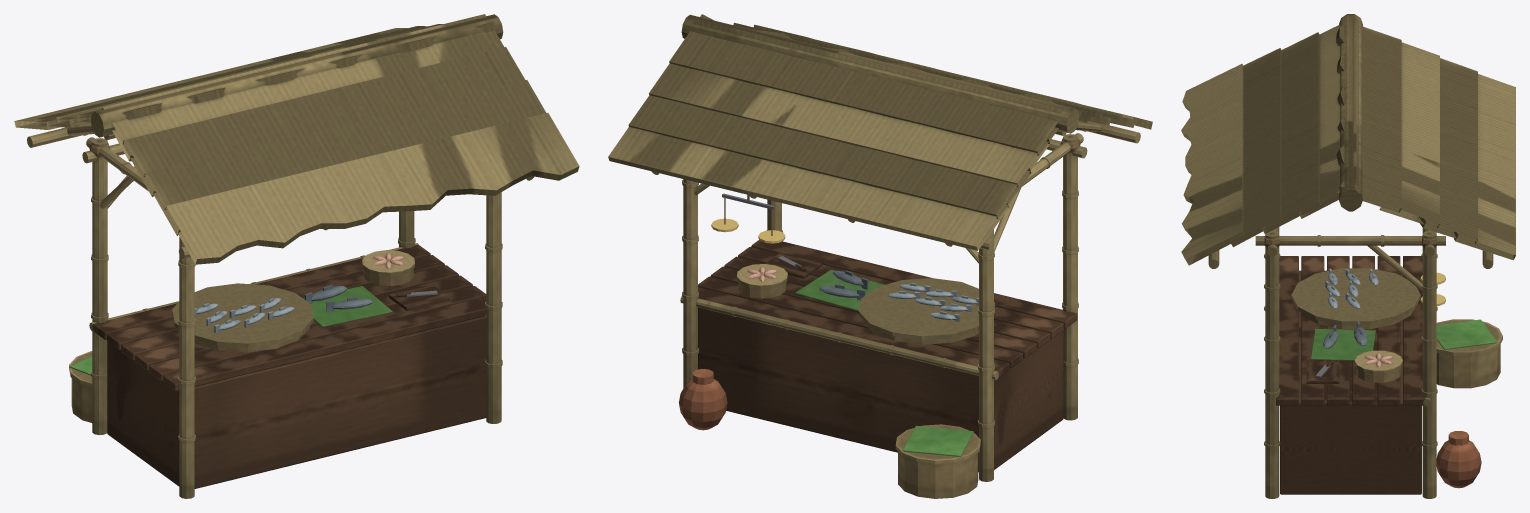
Rendered from market_stall_fish.glb.
3 renders of one model, left to right at view 1: azimuth 30°, elevation 25°; view 2: azimuth 150°, elevation 25°; view 3: azimuth 270°, elevation 25°, orthographic. The views are drawn at different scales.
Visible parts, largest first — view 1: Counter_Base.002, Ola_Back_0.002, Ola_Back_1.002, Ola_Back_2.002, Ola_Back_3.002, Counter_Plank_0.002, Fish_Muram_Tray_Rim, Ola_Ridge_Cap.002, Bamboo_Pillar_2.002, Bamboo_Pillar_0.002, Bamboo_Pillar_1.002, Counter_Plank_1.002 (+13 smaller); view 2: Counter_Base.002, Ola_Front_0.002, Ola_Front_3.002, Ola_Front_1.002, Ola_Front_2.002, Ola_Ridge_Cap.002, Fish_Muram_Tray_Rim, Bamboo_Pillar_0.002, Bamboo_Pillar_2.002, Counter_Plank_5.002, Counter_Plank_0.002, Ground_Fish_Kooda_Body (+16 smaller); view 3: Counter_Base.002, Ola_Back_0.002, Ola_Front_3.002, Ola_Back_2.002, Ola_Back_1.002, Ola_Front_2.002, Ola_Front_0.002, Ola_Front_1.002, Fish_Muram_Tray_Rim, Ola_Back_3.002, Bamboo_Pillar_1.002, Bamboo_Pillar_3.002 (+18 smaller).
Boxes of the visible parts, x1,y1,x2,y2 form: Counter_Base.002: [107, 316, 486, 488]; Ola_Back_0.002: [164, 113, 579, 264]; Ola_Back_1.002: [143, 80, 546, 235]; Ola_Back_2.002: [122, 47, 525, 196]; Ola_Back_3.002: [102, 14, 504, 161]; Counter_Plank_0.002: [163, 296, 486, 391]; Fish_Muram_Tray_Rim: [172, 283, 313, 347]; Ola_Ridge_Cap.002: [90, 14, 503, 137]; Bamboo_Pillar_2.002: [92, 138, 107, 435]; Bamboo_Pillar_0.002: [179, 237, 194, 498]; Bamboo_Pillar_1.002: [486, 192, 501, 423]; Counter_Plank_1.002: [149, 286, 486, 380]; Counter_Base.002: [698, 307, 1063, 472]; Ola_Front_0.002: [608, 127, 1008, 250]; Ola_Front_3.002: [669, 14, 1058, 155]; Ola_Front_1.002: [628, 95, 1031, 218]; Ola_Front_2.002: [649, 63, 1049, 187]; Ola_Ridge_Cap.002: [681, 14, 1079, 133]; Fish_Muram_Tray_Rim: [859, 278, 995, 339]; Bamboo_Pillar_0.002: [1063, 134, 1077, 420]; Bamboo_Pillar_2.002: [979, 229, 993, 481]; Counter_Plank_5.002: [698, 287, 1009, 377]; Counter_Plank_0.002: [751, 239, 1077, 328]; Ground_Fish_Kooda_Body: [898, 425, 978, 498]; Counter_Base.002: [1280, 270, 1421, 494]; Ola_Back_0.002: [1181, 64, 1244, 265]; Ola_Front_3.002: [1336, 25, 1401, 212]; Ola_Back_2.002: [1261, 32, 1320, 233]; Ola_Back_1.002: [1228, 48, 1282, 247]; Ola_Front_2.002: [1379, 42, 1439, 228]; Ola_Front_0.002: [1453, 74, 1515, 260]; Ola_Front_1.002: [1419, 58, 1477, 244]; Fish_Muram_Tray_Rim: [1291, 268, 1420, 324]; Ola_Back_3.002: [1298, 16, 1358, 218]; Bamboo_Pillar_1.002: [1265, 231, 1279, 498]; Bamboo_Pillar_3.002: [1422, 231, 1436, 498].
Size of the model in its own units: 3.28 by 2.88 by 2.64.
3 materials, 1 textured.
